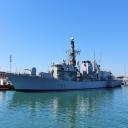Fragata: (6, 30, 125, 93)
